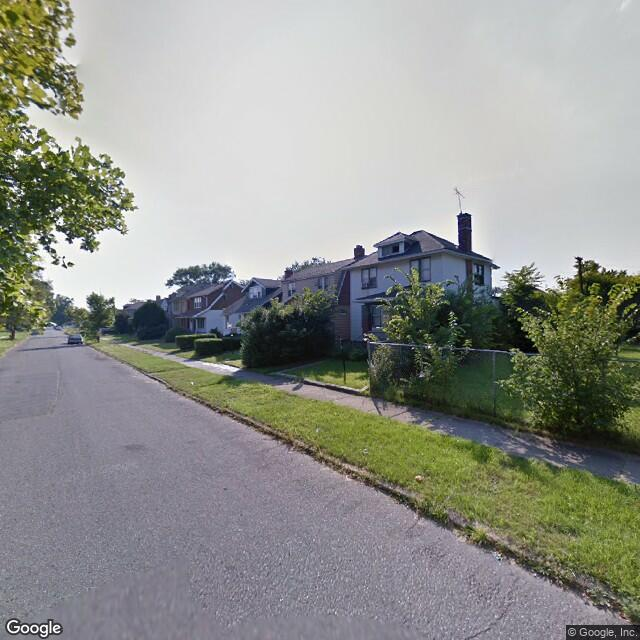litter: (412, 474, 426, 482), (361, 448, 369, 454), (314, 428, 320, 431), (190, 381, 193, 382)
